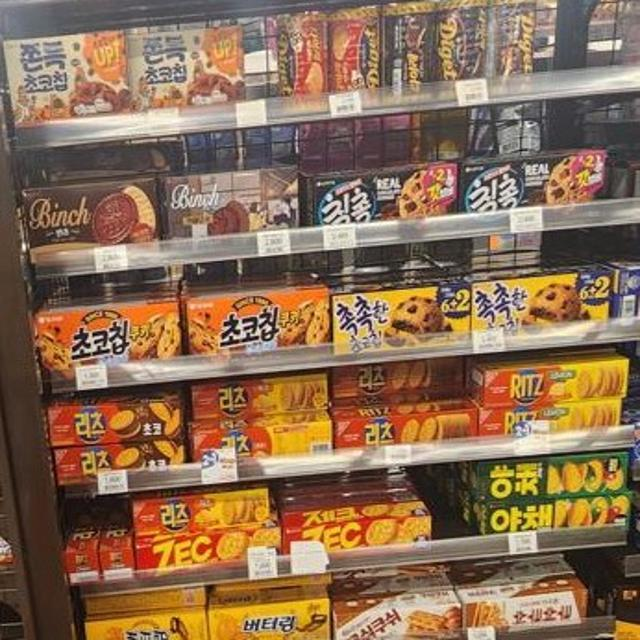product: (458, 152, 607, 222), (30, 301, 182, 360), (188, 293, 328, 356), (310, 165, 457, 224), (471, 272, 612, 333), (27, 184, 151, 250), (482, 454, 628, 501), (135, 491, 271, 533)
